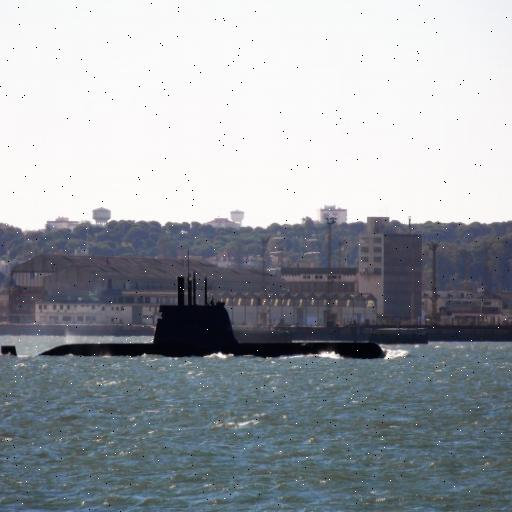submarine: (1, 285, 396, 355)
